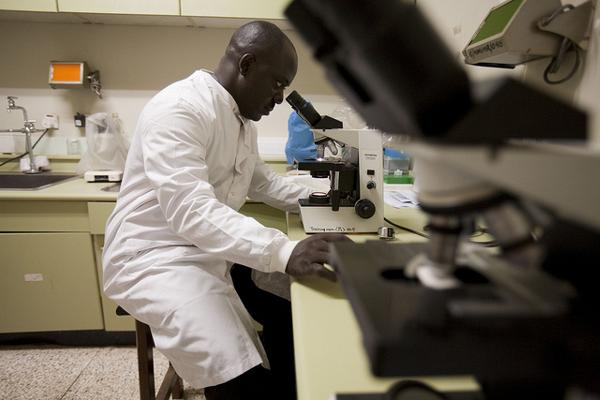person: (103, 21, 356, 400)
